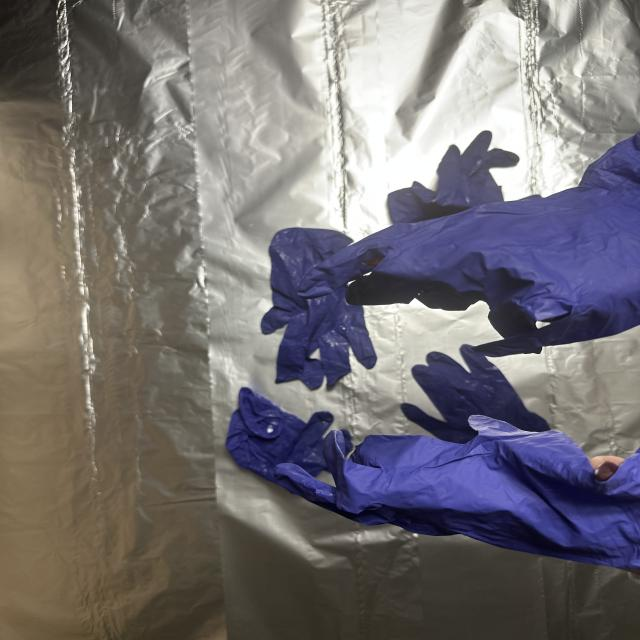glove_not_fitted: (289, 184, 640, 357), (267, 414, 640, 565)
